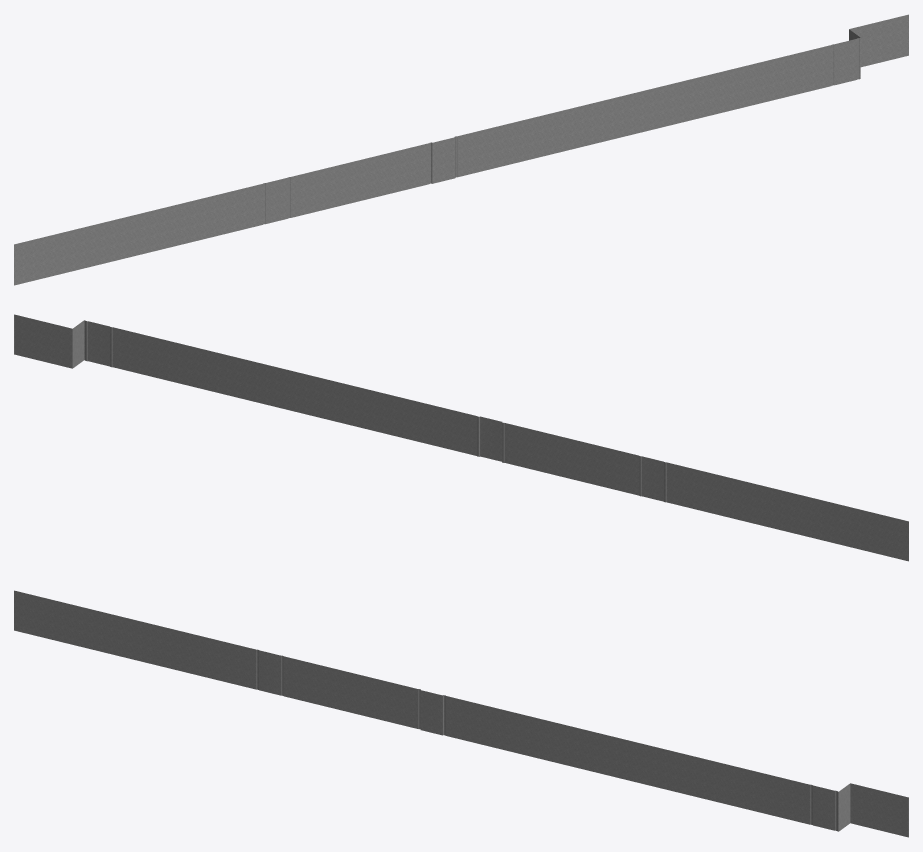
File: WPLWall02.fbx
The picture shows the model from 3 angles, top to bottom: view 1: azimuth 30°, elevation 25°; view 2: azimuth 150°, elevation 25°; view 3: azimuth 330°, elevation 25°; orthographic projection. The views are drawn at different scales.
Visible parts, largest first — view 1: Wall 02.Shape; view 2: Wall 02.Shape; view 3: Wall 02.Shape.
Part boxes in pixels (<box>): Wall 02.Shape: <box>14,14,908,285</box>; Wall 02.Shape: <box>14,314,908,561</box>; Wall 02.Shape: <box>14,590,908,837</box>.
Bounding box in the file's own units: 14686 × 636 × 348.
1 material, 1 textured.
